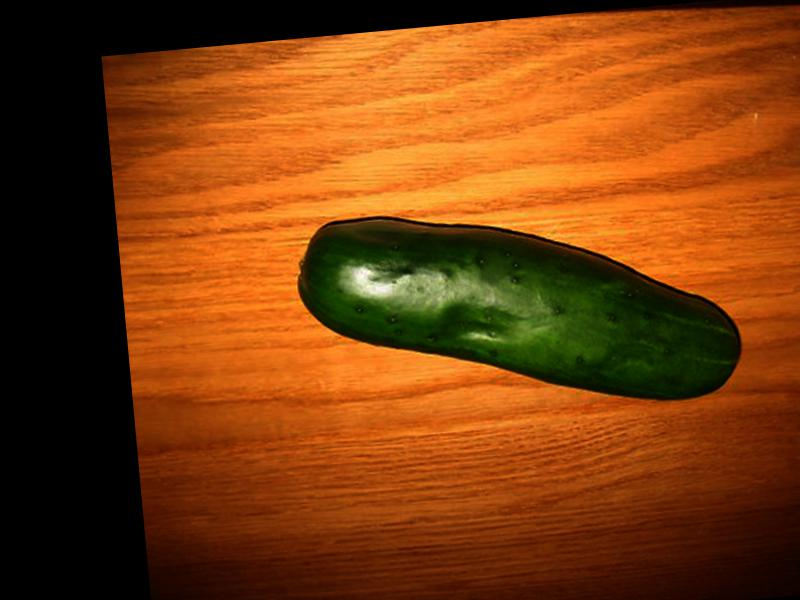Cucumber: (298, 185, 746, 429)
